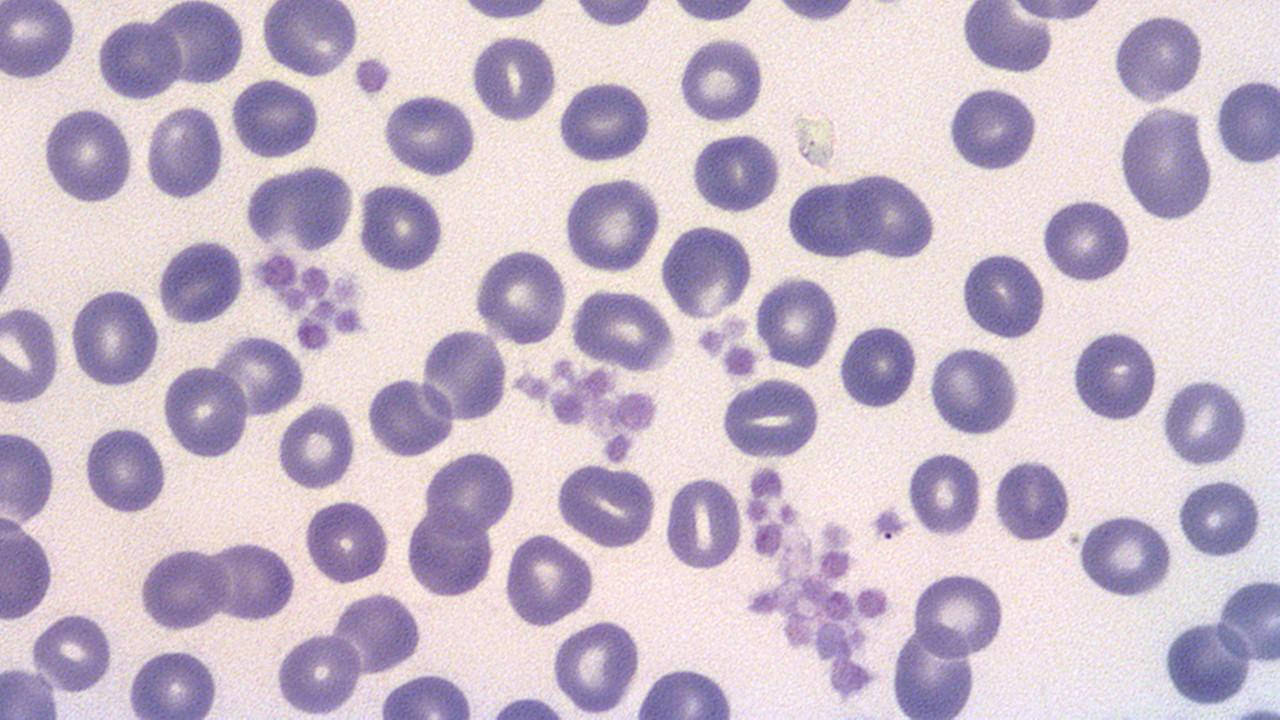Platelets: (941, 82, 1039, 174), (719, 375, 824, 458), (990, 456, 1074, 544), (352, 55, 393, 97), (294, 313, 332, 353), (720, 342, 760, 380), (747, 465, 786, 502), (696, 324, 726, 361), (333, 307, 366, 337)
RBC: (1114, 102, 1216, 223), (560, 172, 664, 275), (656, 221, 756, 321), (471, 244, 567, 348), (66, 286, 160, 389), (554, 461, 661, 551), (568, 285, 676, 374), (1157, 614, 1255, 712), (40, 104, 134, 206), (501, 530, 597, 628), (718, 374, 824, 461), (909, 568, 1007, 662), (1111, 9, 1205, 107), (943, 80, 1042, 173), (926, 343, 1022, 438), (554, 77, 656, 166), (1069, 326, 1161, 424), (1074, 510, 1174, 600), (404, 506, 497, 602), (418, 326, 510, 423), (884, 624, 980, 716), (550, 618, 642, 714), (160, 362, 250, 460), (380, 90, 480, 178), (847, 169, 940, 262), (468, 29, 559, 124), (754, 271, 840, 371), (1040, 194, 1134, 285), (958, 246, 1048, 341), (154, 236, 248, 326), (1160, 374, 1250, 468), (356, 178, 444, 274), (150, 0, 244, 89), (135, 546, 230, 634), (206, 535, 298, 625), (688, 129, 783, 216), (143, 101, 224, 203), (365, 370, 456, 460), (676, 34, 766, 125), (302, 495, 391, 587), (421, 450, 516, 536), (82, 422, 168, 517), (274, 627, 363, 717), (214, 332, 305, 420), (664, 473, 744, 573), (259, 0, 360, 79), (228, 76, 322, 160), (274, 399, 358, 493), (783, 174, 872, 261), (96, 15, 182, 104), (1176, 474, 1264, 560), (990, 456, 1075, 545), (29, 608, 115, 695), (836, 322, 920, 411), (122, 645, 224, 717), (904, 448, 983, 540), (1, 508, 56, 626), (1214, 573, 1280, 671), (0, 302, 62, 406), (1214, 74, 1280, 169), (0, 1, 77, 82), (1, 423, 58, 530), (630, 662, 740, 716), (371, 672, 482, 716), (567, 0, 659, 29), (663, 0, 763, 25), (453, 0, 556, 24), (770, 0, 862, 24), (0, 204, 18, 314)
WBC: (0, 0, 1023, 720), (685, 0, 1280, 720), (1114, 102, 1216, 224), (658, 218, 762, 326), (552, 460, 669, 553), (242, 161, 358, 254), (1157, 612, 1257, 708), (888, 619, 982, 717), (944, 82, 1043, 175), (421, 324, 514, 422), (154, 232, 246, 330), (258, 1, 362, 79), (229, 75, 323, 159), (991, 452, 1073, 548), (956, 2, 1057, 75), (784, 176, 866, 263), (564, 0, 660, 29)
